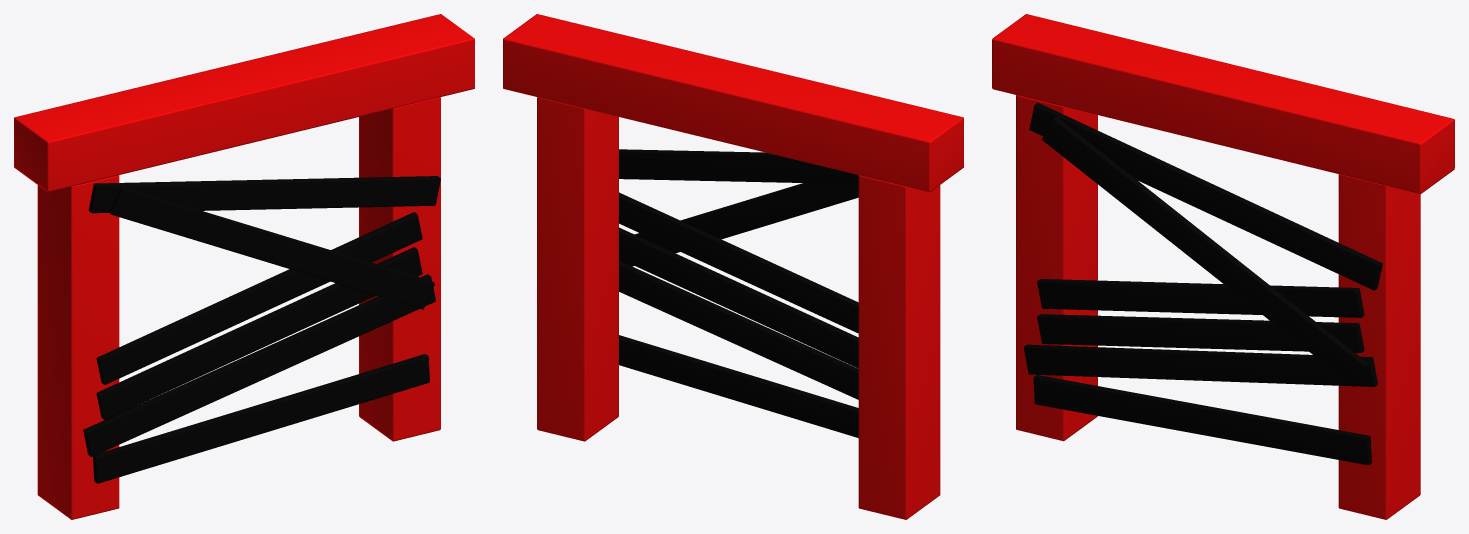
File: wejście_do_kopalni.FBX
3 renders of one model, left to right at view 1: azimuth 30°, elevation 25°; view 2: azimuth 150°, elevation 25°; view 3: azimuth 330°, elevation 25°, orthographic.
Visible parts, largest first — view 1: wejście_do_kopalni; view 2: wejście_do_kopalni; view 3: wejście_do_kopalni.
Part boxes in pixels (x1,y1,x2,y2): wejście_do_kopalni: [14, 14, 474, 519]; wejście_do_kopalni: [503, 14, 963, 519]; wejście_do_kopalni: [992, 14, 1454, 519].
Bounding box in the file's own units: 85.45 × 14.43 × 73.34.
